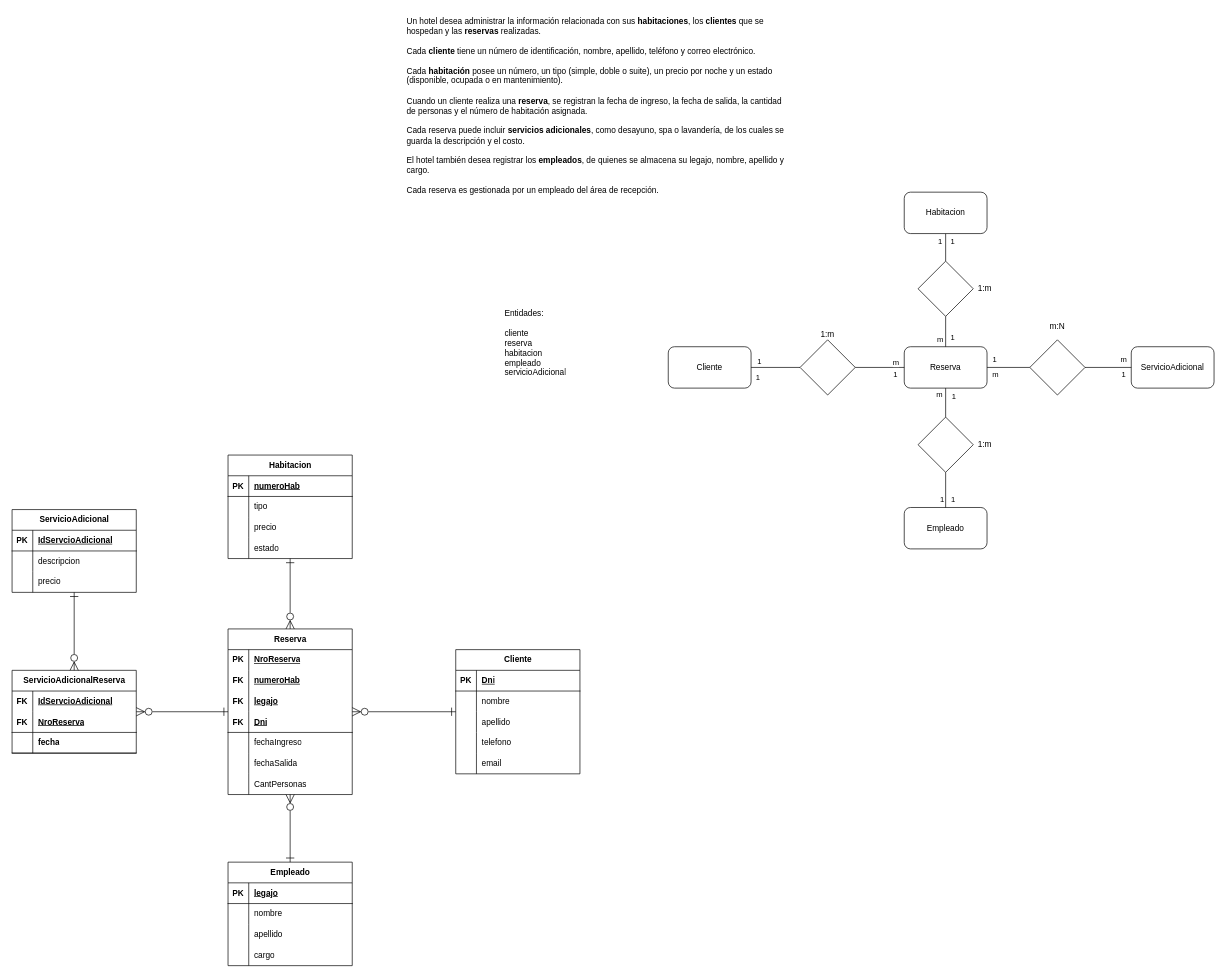
Image size: 1226x978. Some labels were removed from this diagram. Here are the shapes that lost their labels. From the top down, the centre of each, then its label:
At (x=945, y=288): "asigna".
At (x=827, y=367): "realiza".
At (x=1057, y=367): "incluye".
At (x=945, y=444): "gestionada".
